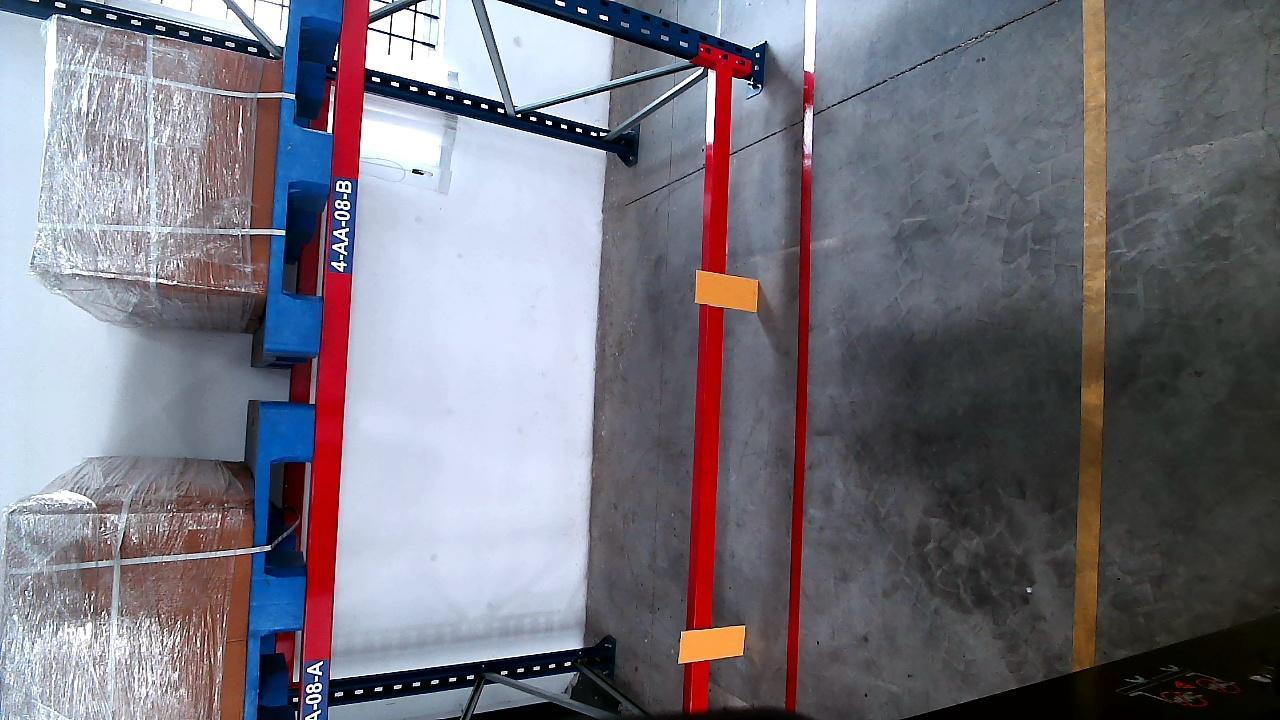red_line: (786, 2, 816, 708)
yellow_line: (1077, 0, 1106, 671)
